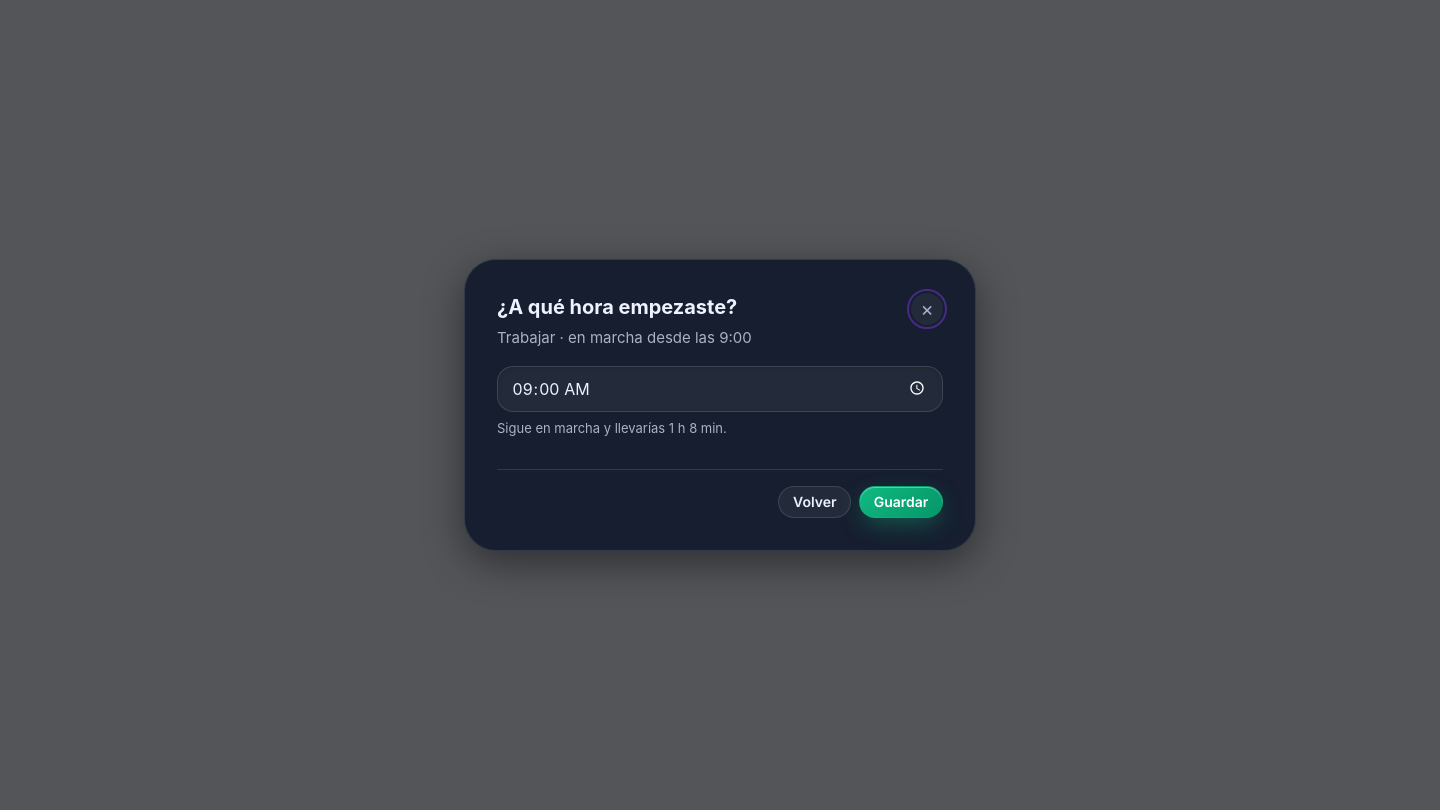
Test: VidaStartTimeSheet › con los ratos del día **todavía en vuelo**, la comprobación espera en vez de saltársela
Replace the text in the time field named "Hora a la que empezaste" with "08:10": (720, 389) left=497, top=366, right=943, bottom=412
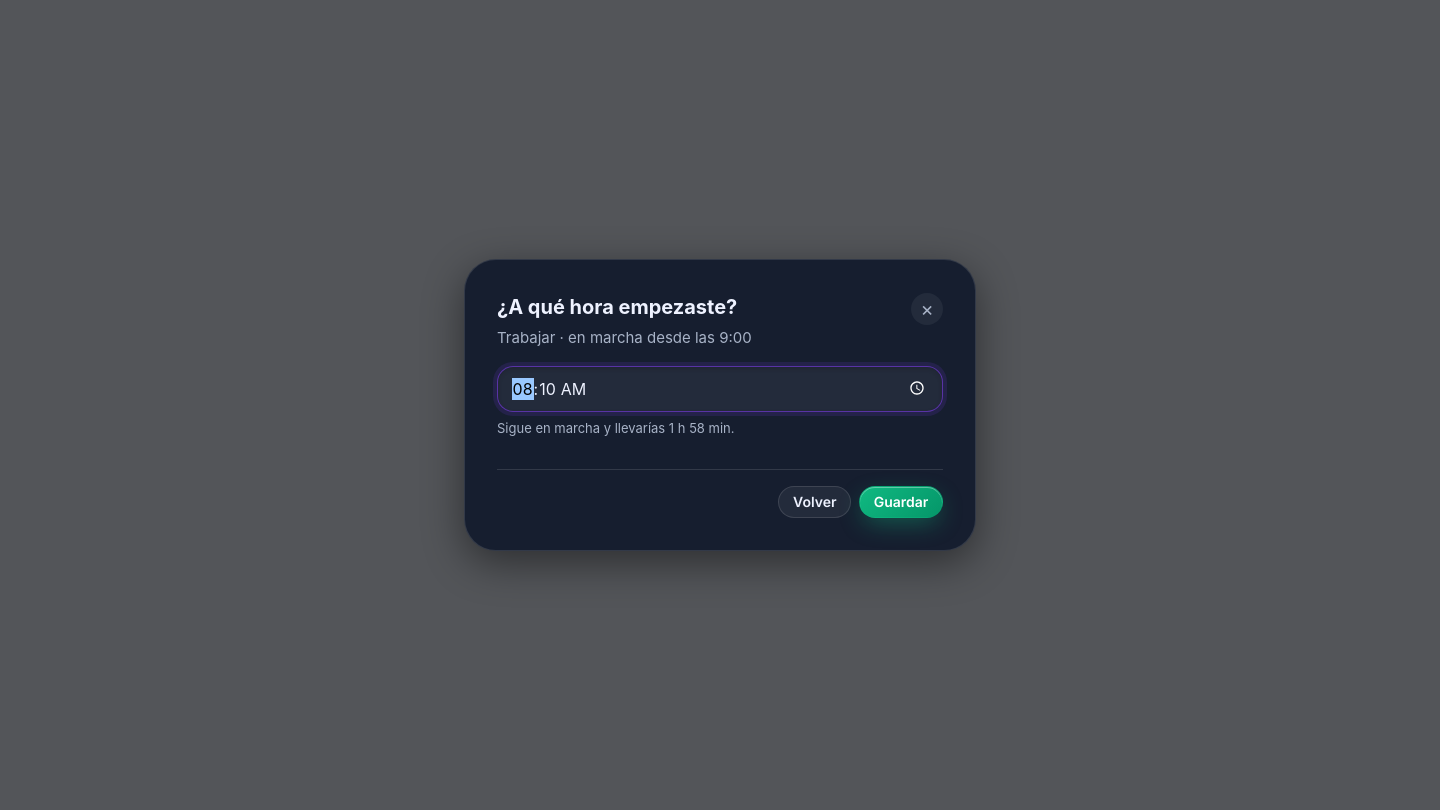
Click the button "Guardar": (901, 502) left=859, top=486, right=943, bottom=518
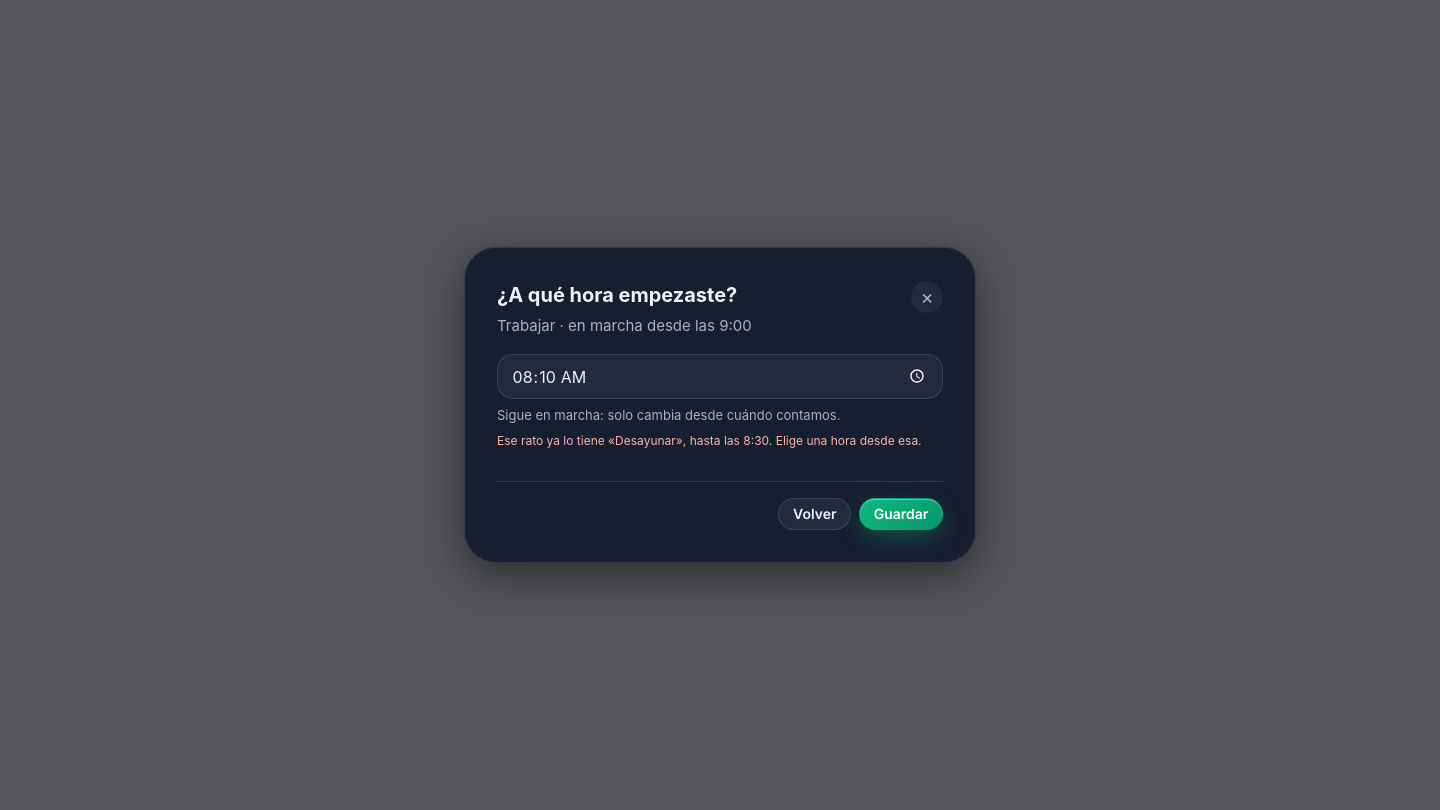
Now the message shows "Ese rato ya lo tiene «Desayunar», hasta las 8:30.", box left=497, top=433, right=922, bottom=448
